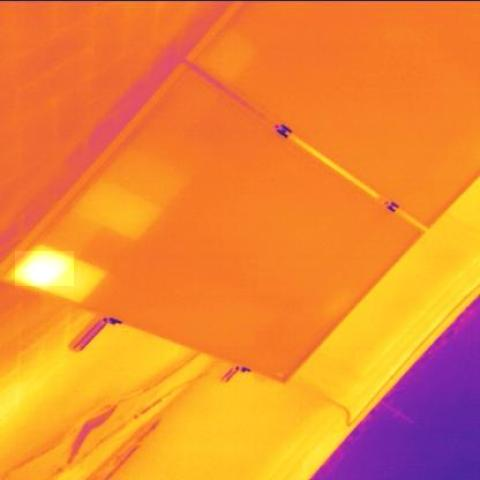fault: (15, 251, 74, 286)
